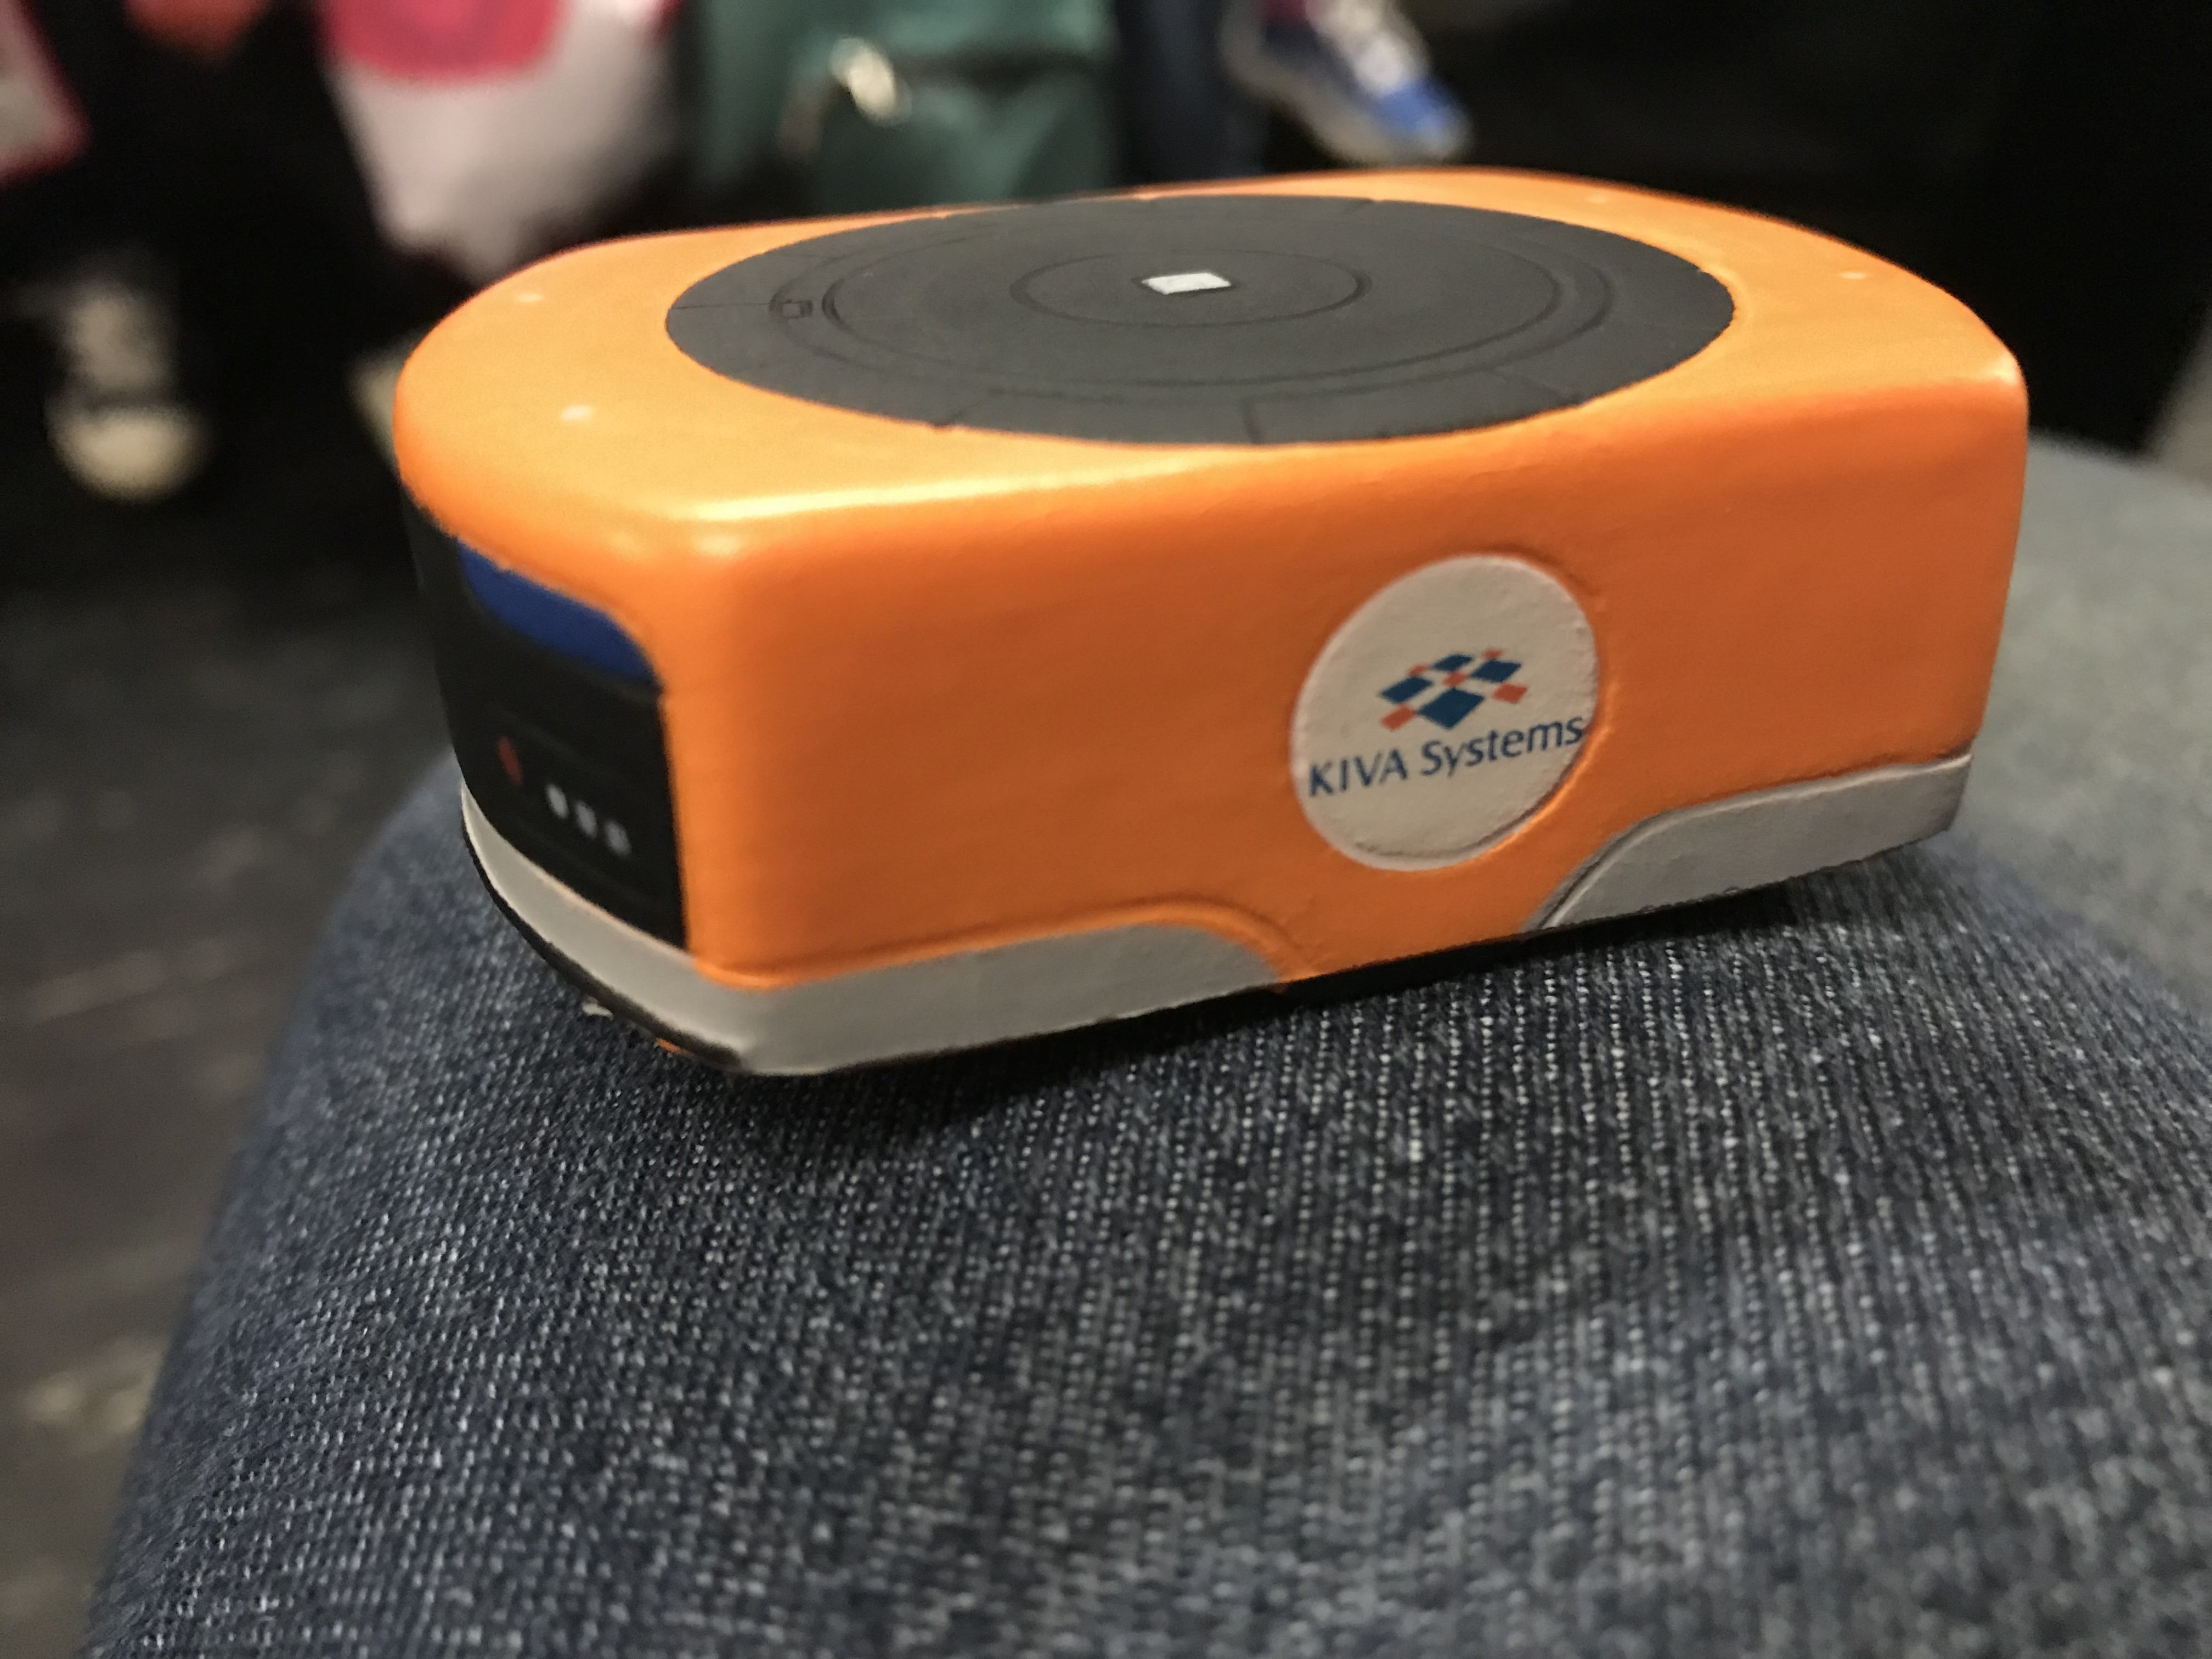amazon_bot: (380, 150, 2078, 1131)
